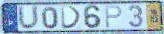0: (41, 5, 60, 30)
3: (127, 4, 145, 29)
6: (83, 4, 103, 30)
D: (60, 5, 83, 30)
P: (104, 5, 123, 30)
U: (16, 4, 40, 31)
